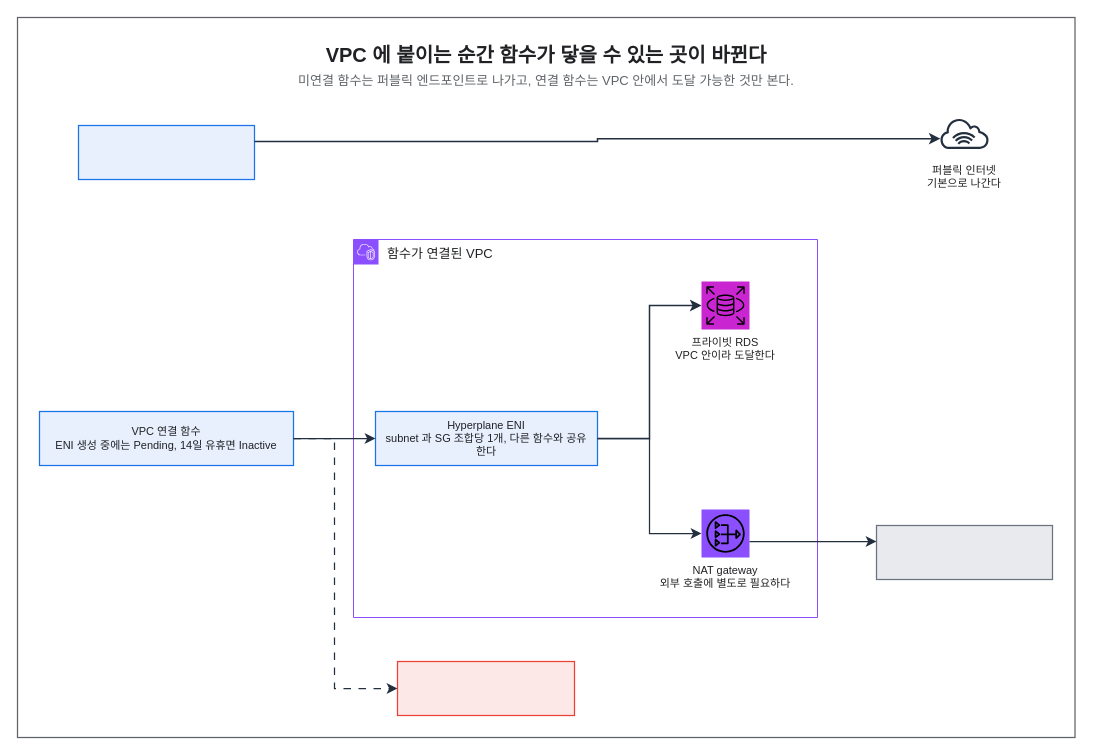
This 1093x756 diagram has some shape labels left out. The shapes that lost their labels are listed below. From the top down, each one's centre as x and y in pixels, then its label:
At point (166, 152): "VPC 미연결 함수 Lambda 소유 네트워크에서 실행된다".
At point (964, 552): "외부 SaaS API 경로를 만들지 않으면 타임아웃".
At point (485, 688): "퍼블릭 서브넷에 연결 퍼블릭 IP 도 인터넷 경로도 생기지 않는다".
